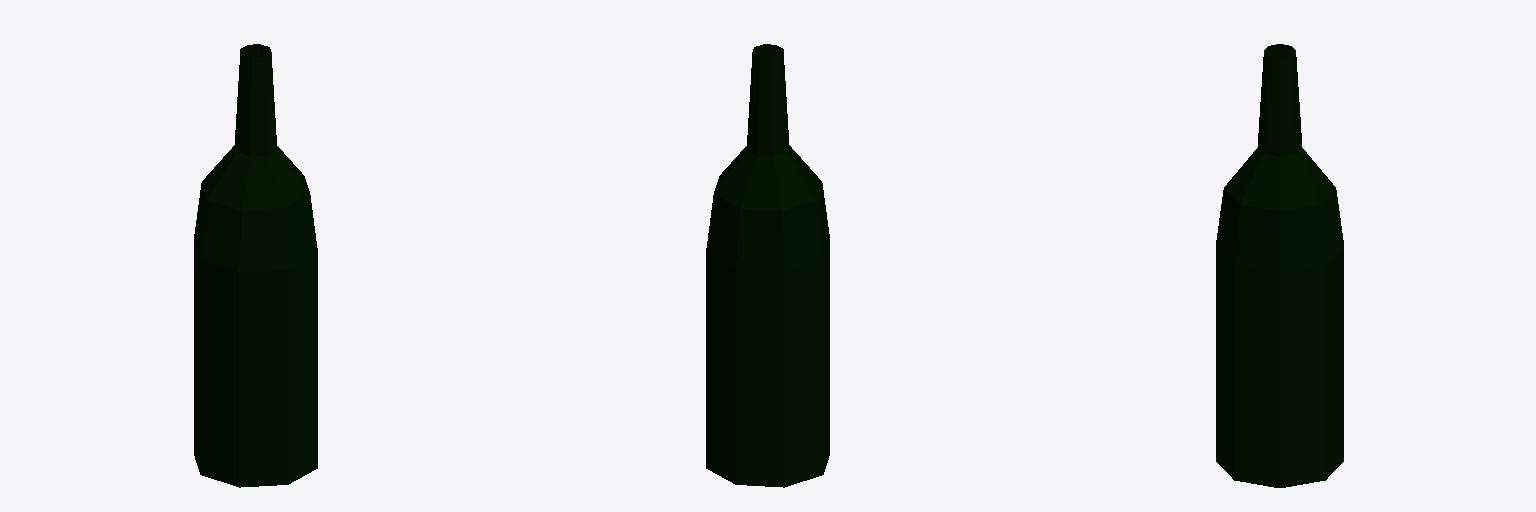
Rendered from Bottle.obj.
The picture shows the model from 3 angles: view 1: azimuth 30°, elevation 25°; view 2: azimuth 150°, elevation 25°; view 3: azimuth 270°, elevation 25°; orthographic projection.
Parts seen in each view (by area): view 1: pCylinder1; view 2: pCylinder1; view 3: pCylinder1.
Boxes of the visible parts, <box> form: pCylinder1: <box>194,44,317,487</box>; pCylinder1: <box>706,44,829,487</box>; pCylinder1: <box>1216,44,1343,487</box>.
Size of the model in its own units: 2 by 7.04 by 2.